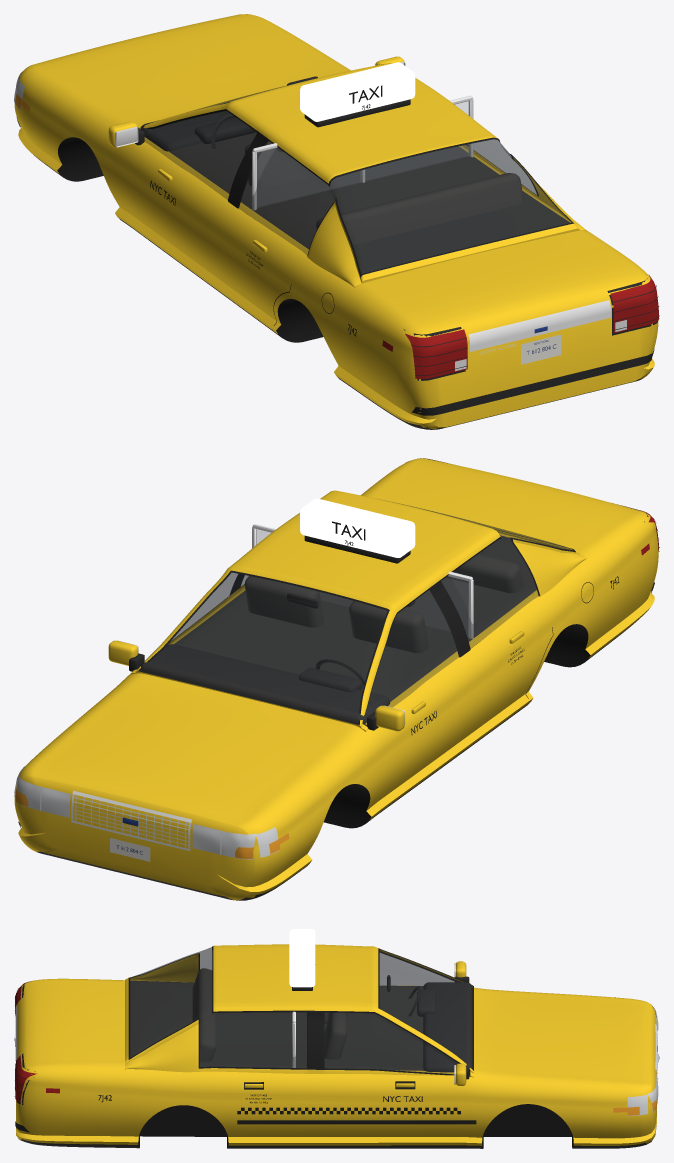
The model's file is crownvic_taxi.glb.
3 renders of one model, top to bottom at view 1: azimuth 30°, elevation 25°; view 2: azimuth 150°, elevation 25°; view 3: azimuth 270°, elevation 25°, orthographic. The views are drawn at different scales.
Parts seen in each view (by area): view 1: body, greenhouse, details; view 2: body, greenhouse, details; view 3: body, greenhouse, details.
Boxes of the visible parts, box(x1,y1,x2,y2) form: body: box(14, 14, 658, 429); greenhouse: box(139, 63, 586, 287); details: box(14, 56, 659, 415); body: box(14, 458, 658, 900); greenhouse: box(130, 490, 586, 731); details: box(14, 458, 659, 861); body: box(16, 978, 656, 1148); greenhouse: box(125, 944, 473, 1077); details: box(14, 929, 659, 1132).
Bounding box in the file's own units: 2.24 × 1.49 × 5.46.
